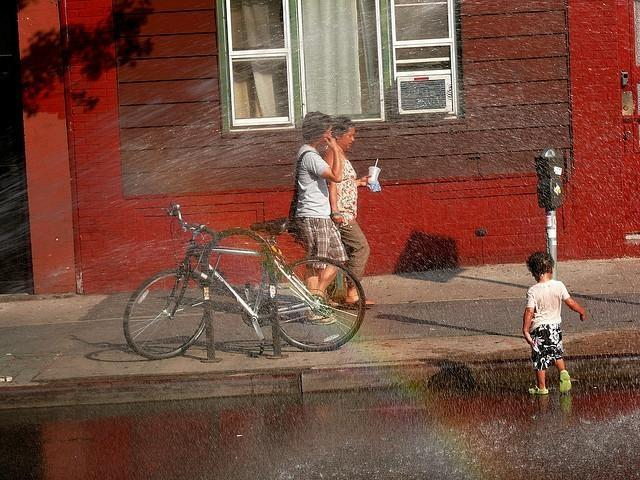bicycle: (125, 202, 362, 358)
